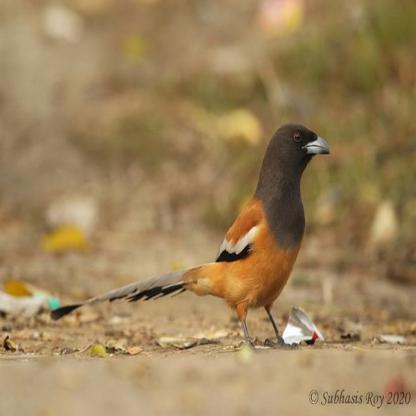Burung: (50, 124, 330, 350)
